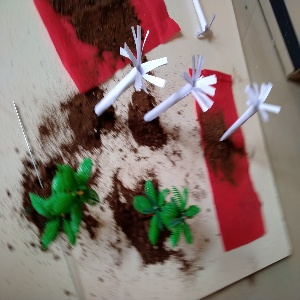plant: (25, 157, 99, 248), (137, 180, 195, 239)
weed: (92, 29, 161, 130), (157, 44, 219, 136), (223, 72, 284, 165), (189, 4, 222, 44)
